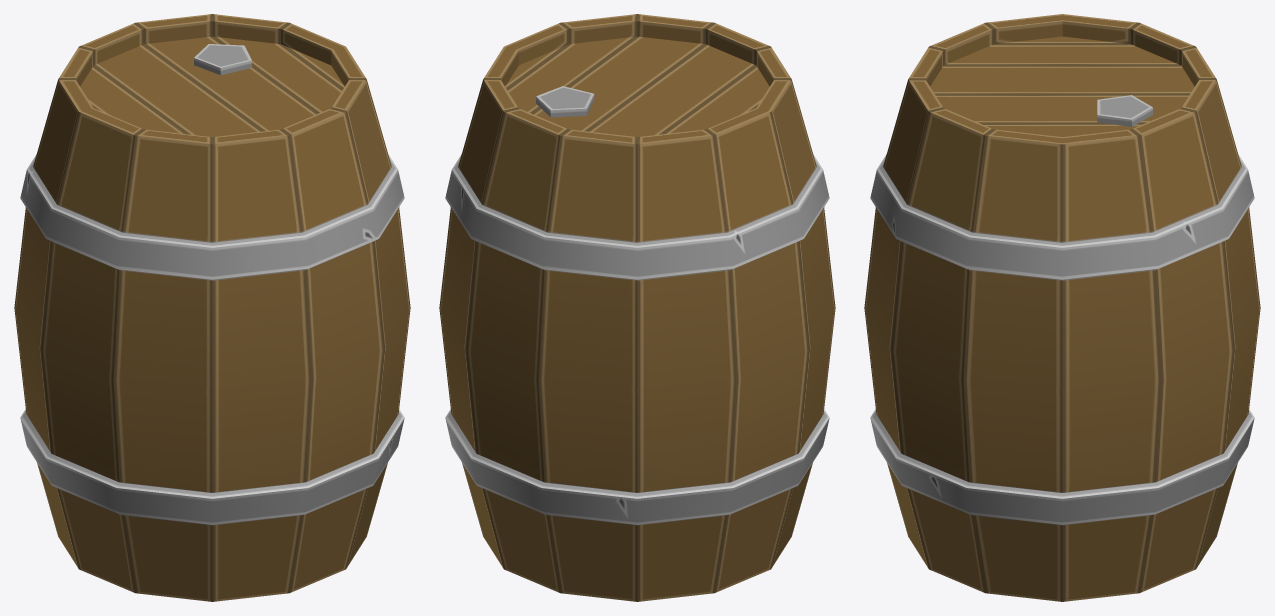
File: barrel.fbx
3 views of the same model, side by side, from view 1: azimuth 30°, elevation 25°; view 2: azimuth 150°, elevation 25°; view 3: azimuth 270°, elevation 25° (orthographic).
Visible parts, largest first — view 1: barrel; view 2: barrel; view 3: barrel.
Boxes of the visible parts, x1=… form: barrel: x1=14, y1=14, x2=410, y2=601; barrel: x1=439, y1=14, x2=835, y2=601; barrel: x1=864, y1=14, x2=1260, y2=601.
Bounding box in the file's own units: 70.63 × 90 × 70.63.
